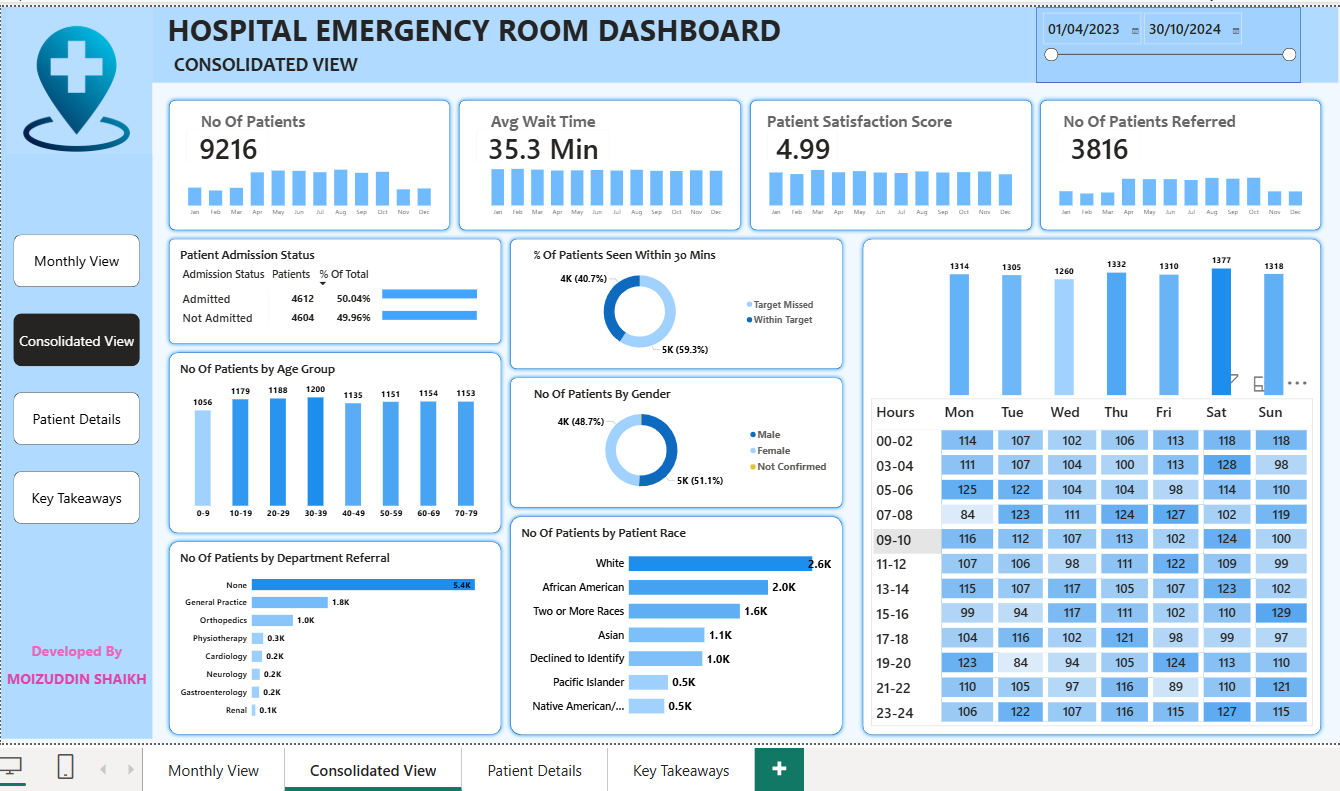

This screenshot's page, from the dashboard's own definition file:
{"tool":"powerbi","page":{"name":"Consolidated View","canvas":[2550,1400],"ordinal":1},"visuals":[{"type":"textbox","box":[10,0,280,280],"z":0},{"type":"shape","box":[0,0,288,1392],"z":1000},{"type":"shape","box":[288,0,2256,144],"z":2000},{"type":"textbox","box":[312,0,1248,96],"z":3000},{"type":"textbox","box":[312,72,384,72],"z":4000},{"type":"slicer","fields":{"Values":["Date Table.Date"]},"box":[1968,0,504,144],"z":5000},{"type":"shape","box":[312,168,550,264],"z":6000},{"type":"cardVisual","fields":{"Data":["Hospital ER_Data.No Of Patients"]},"box":[336,216,192,96],"z":7000},{"type":"textbox","box":[336,192,288,72],"z":8000},{"type":"columnChart","fields":{"Y":["Hospital ER_Data.No Of Patients"],"Category":["Date Table.Month"]},"box":[336,264,504,144],"z":9000},{"type":"shape","box":[864,168,552,264],"z":10000},{"type":"cardVisual","fields":{"Data":["Hospital ER_Data.Avg Wait Time"]},"box":[888,216,288,96],"z":11000},{"type":"textbox","box":[888,192,288,72],"z":12000},{"type":"columnChart","fields":{"Y":["Avg(Hospital ER_Data.Patient Waittime)"],"Category":["Date Table.Month"]},"box":[912,288,480,120],"z":13000},{"type":"shape","box":[1416,168,552,264],"z":14000},{"type":"cardVisual","fields":{"Data":["Hospital ER_Data.Satisfaction Score"]},"box":[1440,216,168,96],"z":15000},{"type":"textbox","box":[1440,192,384,72],"z":16000},{"type":"columnChart","fields":{"Y":["Hospital ER_Data.Satisfaction Score"],"Category":["Date Table.Month"]},"box":[1440,288,504,120],"z":17000},{"type":"shape","box":[1968,168,550,264],"z":18000},{"type":"cardVisual","fields":{"Data":["Hospital ER_Data.No of Patient Referred"]},"box":[1992,216,192,96],"z":19000},{"type":"textbox","box":[1968,192,432,72],"z":20000},{"type":"columnChart","fields":{"Category":["Date Table.Month"],"Y":["Hospital ER_Data.No of Patient Referred"]},"box":[1992,288,504,120],"z":21000},{"type":"shape","box":[312,432,648,216],"z":22000},{"type":"pivotTable","title":"Patient Admission Status","fields":{"Rows":["Hospital ER_Data.Admission Status"],"Values":["Hospital ER_Data.No Of Patients1","Hospital ER_Data.No Of Patients"]},"box":[336,456,576,168],"z":23000},{"type":"barChart","fields":{"Y":["Hospital ER_Data.No Of Patients"],"Category":["Hospital ER_Data.Admission Status"]},"box":[720,504,216,120],"z":24000},{"type":"shape","box":[312,648,648,360],"z":25000},{"type":"clusteredColumnChart","fields":{"Category":["Hospital ER_Data.Age Group"],"Y":["Hospital ER_Data.No Of Patients"]},"box":[336,672,600,312],"z":26000},{"type":"shape","box":[312,1008,648,384],"z":27000},{"type":"clusteredBarChart","fields":{"Category":["Hospital ER_Data.Department Referral"],"Y":["Hospital ER_Data.No Of Patients"]},"box":[336,1032,600,336],"z":28000},{"type":"shape","box":[960,432,648,264],"z":29000},{"type":"donutChart","title":"% Of Patients Seen Within 30 Mins","fields":{"Category":["Hospital ER_Data.Waittime Status"],"Y":["Hospital ER_Data.No Of Patients"]},"box":[1008,456,552,216],"z":30000},{"type":"shape","box":[960,696,648,264],"z":31000},{"type":"donutChart","title":"No Of Patients By Gender","fields":{"Y":["Hospital ER_Data.No Of Patients"],"Category":["Hospital ER_Data.Patient Gender"]},"box":[1008,720,576,216],"z":32000},{"type":"shape","box":[960,960,648,432],"z":33000},{"type":"clusteredBarChart","fields":{"Y":["Hospital ER_Data.No Of Patients"],"Category":["Hospital ER_Data.Patient Race"]},"box":[984,984,600,384],"z":34000},{"type":"shape","box":[1632,432,888,960],"z":35000},{"type":"pivotTable","fields":{"Rows":["Hospital ER_Data.Waittime Interval"],"Columns":["Date Table.Day Name"],"Values":["Hospital ER_Data.No Of Patients"]},"box":[1656,744,840,624],"z":36000},{"type":"columnChart","title":"No Of Patients by Day And Hour","fields":{"Category":["Date Table.Day Name"],"Y":["Hospital ER_Data.No Of Patients"]},"box":[1800,456,648,288],"z":37000},{"type":"image","box":[24,24,240,264],"z":38000},{"type":"pageNavigator","box":[24,432,240,552],"z":39000},{"type":"textbox","box":[0,1200,288,120],"z":40000}]}

Visuals, with their boxes on the page's 2550x1400 design canvas (x1, y1, x2, y2). These are canvas units, not pixel positions in the 1340x791 screenshot, which may show the page scaled, cropped or inside an application window:
textbox: select_region(10, 0, 290, 280)
shape: select_region(0, 0, 288, 1392)
shape: select_region(288, 0, 2544, 144)
textbox: select_region(312, 0, 1560, 96)
textbox: select_region(312, 72, 696, 144)
slicer - Date Table.Date: select_region(1968, 0, 2472, 144)
shape: select_region(312, 168, 862, 432)
cardVisual - Hospital ER_Data.No Of Patients: select_region(336, 216, 528, 312)
textbox: select_region(336, 192, 624, 264)
columnChart - Hospital ER_Data.No Of Patients x Date Table.Month: select_region(336, 264, 840, 408)
shape: select_region(864, 168, 1416, 432)
cardVisual - Hospital ER_Data.Avg Wait Time: select_region(888, 216, 1176, 312)
textbox: select_region(888, 192, 1176, 264)
columnChart - Avg(Hospital ER_Data.Patient Waittime) x Date Table.Month: select_region(912, 288, 1392, 408)
shape: select_region(1416, 168, 1968, 432)
cardVisual - Hospital ER_Data.Satisfaction Score: select_region(1440, 216, 1608, 312)
textbox: select_region(1440, 192, 1824, 264)
columnChart - Hospital ER_Data.Satisfaction Score x Date Table.Month: select_region(1440, 288, 1944, 408)
shape: select_region(1968, 168, 2518, 432)
cardVisual - Hospital ER_Data.No of Patient Referred: select_region(1992, 216, 2184, 312)
textbox: select_region(1968, 192, 2400, 264)
columnChart - Date Table.Month x Hospital ER_Data.No of Patient Referred: select_region(1992, 288, 2496, 408)
shape: select_region(312, 432, 960, 648)
"Patient Admission Status" pivotTable: select_region(336, 456, 912, 624)
barChart - Hospital ER_Data.No Of Patients x Hospital ER_Data.Admission Status: select_region(720, 504, 936, 624)
shape: select_region(312, 648, 960, 1008)
clusteredColumnChart - Hospital ER_Data.Age Group x Hospital ER_Data.No Of Patients: select_region(336, 672, 936, 984)
shape: select_region(312, 1008, 960, 1392)
clusteredBarChart - Hospital ER_Data.Department Referral x Hospital ER_Data.No Of Patients: select_region(336, 1032, 936, 1368)
shape: select_region(960, 432, 1608, 696)
"% Of Patients Seen Within 30 Mins" donutChart: select_region(1008, 456, 1560, 672)
shape: select_region(960, 696, 1608, 960)
"No Of Patients By Gender" donutChart: select_region(1008, 720, 1584, 936)
shape: select_region(960, 960, 1608, 1392)
clusteredBarChart - Hospital ER_Data.No Of Patients x Hospital ER_Data.Patient Race: select_region(984, 984, 1584, 1368)
shape: select_region(1632, 432, 2520, 1392)
pivotTable - Hospital ER_Data.Waittime Interval x Date Table.Day Name: select_region(1656, 744, 2496, 1368)
"No Of Patients by Day And Hour" columnChart: select_region(1800, 456, 2448, 744)
image: select_region(24, 24, 264, 288)
pageNavigator: select_region(24, 432, 264, 984)
textbox: select_region(0, 1200, 288, 1320)
